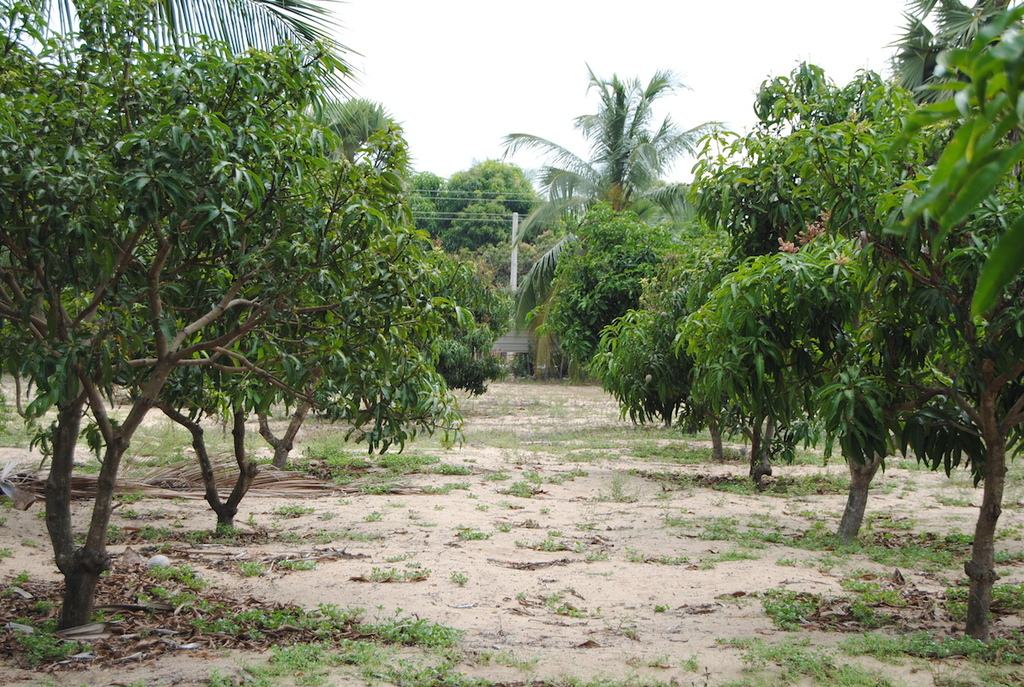Tree: (547, 0, 1018, 638), (17, 14, 491, 559), (504, 63, 729, 253), (427, 163, 537, 258)
